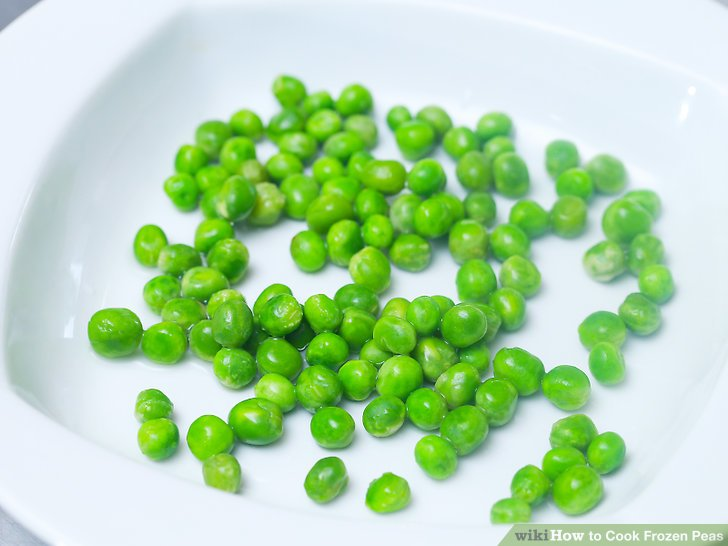boiled peas: (108, 93, 662, 514)
